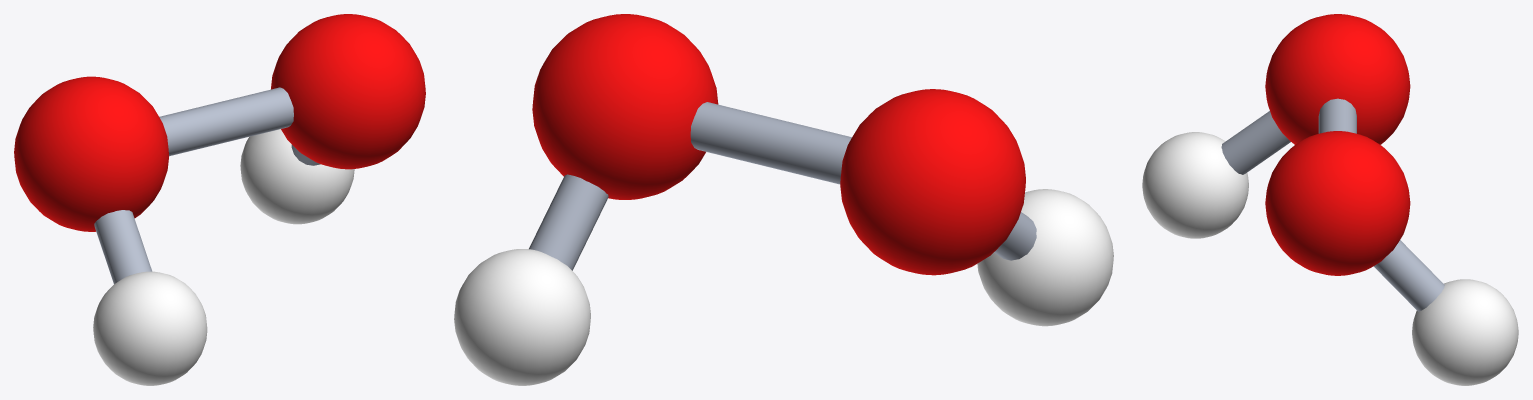
3 views of the same model, side by side, from view 1: azimuth 30°, elevation 25°; view 2: azimuth 150°, elevation 25°; view 3: azimuth 270°, elevation 25° (orthographic). The views are drawn at different scales.
Parts seen in each view (by area): view 1: O (×2), H (×2), bond (×2); view 2: O (×2), H (×2), bond (×3); view 3: O (×2), H (×2), bond (×3).
Boxes of the visible parts, x1,y1,x2,y2 form: O (×2): [14, 14, 425, 231]; H (×2): [93, 129, 354, 385]; bond (×2): [94, 87, 293, 283]; O (×2): [532, 14, 1025, 275]; H (×2): [454, 189, 1113, 385]; bond (×3): [529, 102, 1036, 270]; O (×2): [1265, 14, 1410, 275]; H (×2): [1142, 132, 1518, 385]; bond (×3): [1221, 98, 1444, 311].
Bounding box in the file's own units: 0.22 × 0.1354 × 0.1964.
